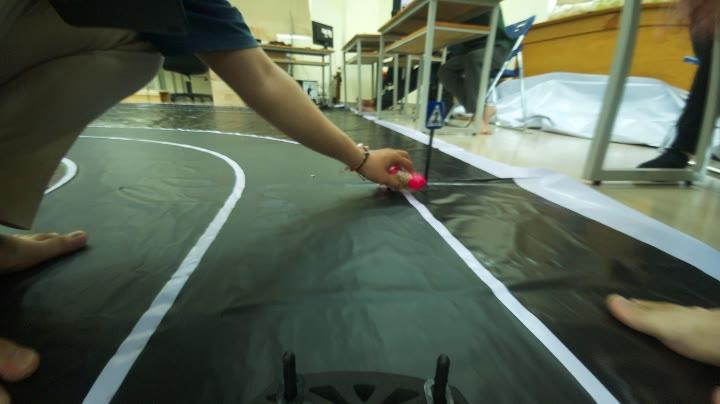crosswalk: (420, 98, 452, 134)
